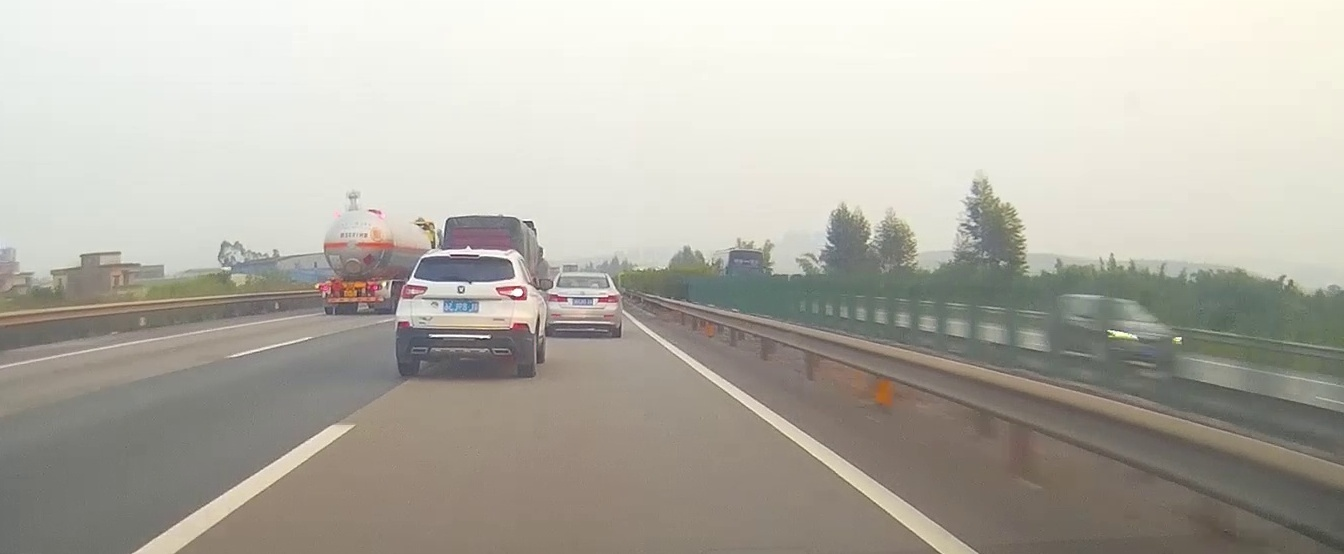L_light: (401, 285, 429, 299), (547, 293, 569, 302), (319, 285, 331, 291)
R_light: (495, 285, 528, 301), (598, 294, 621, 303), (369, 284, 382, 290)
T_light: (450, 253, 479, 259), (575, 275, 589, 279), (345, 281, 356, 285)
day-brake: (315, 279, 393, 314)
day-no: (546, 272, 622, 338)
day-right: (395, 248, 536, 376)
